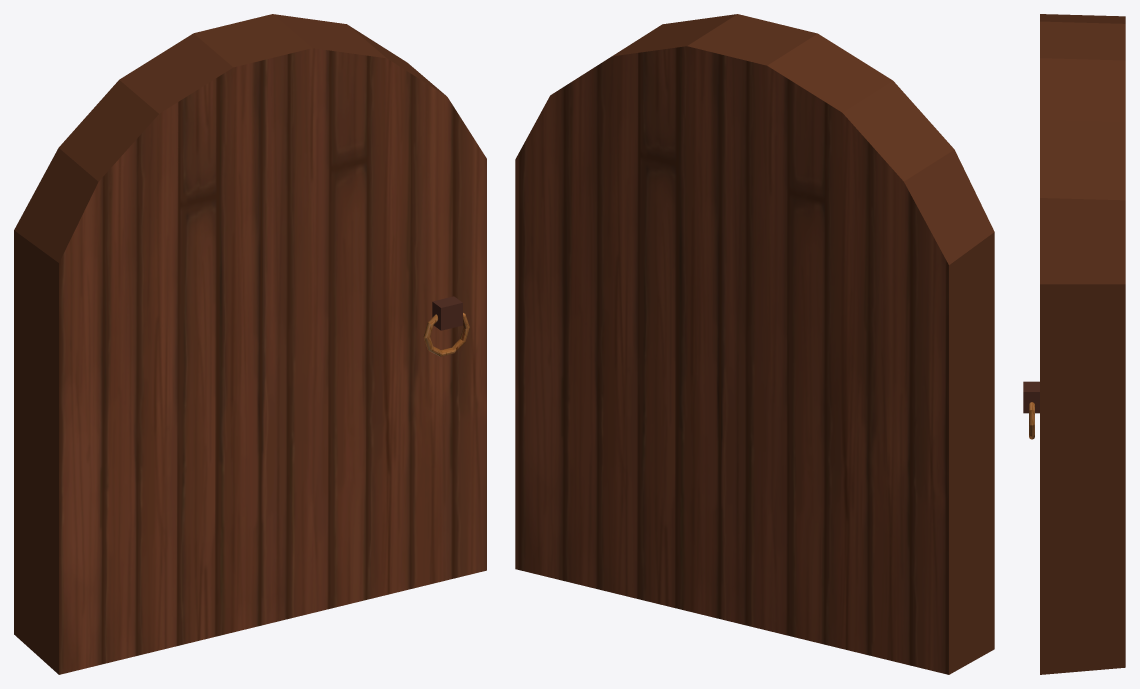
File: pintu4.fbx
The picture shows the model from 3 angles, left to right: view 1: azimuth 30°, elevation 25°; view 2: azimuth 150°, elevation 25°; view 3: azimuth 270°, elevation 25°; orthographic projection. The views are drawn at different scales.
Visible parts, largest first — view 1: Circle.002, Cube; view 2: Circle.002; view 3: Circle.002, Cube, Circle.007.
Part boxes in pixels (left/top/right/bottom): Circle.002: left=14, top=14, right=486, bottom=674; Cube: left=432, top=296, right=462, bottom=330; Circle.002: left=515, top=14, right=994, bottom=674; Circle.002: left=1040, top=14, right=1125, bottom=674; Cube: left=1023, top=381, right=1039, bottom=413; Circle.007: left=1029, top=402, right=1034, bottom=439.
Size of the model in its own units: 399 by 504 by 87.
